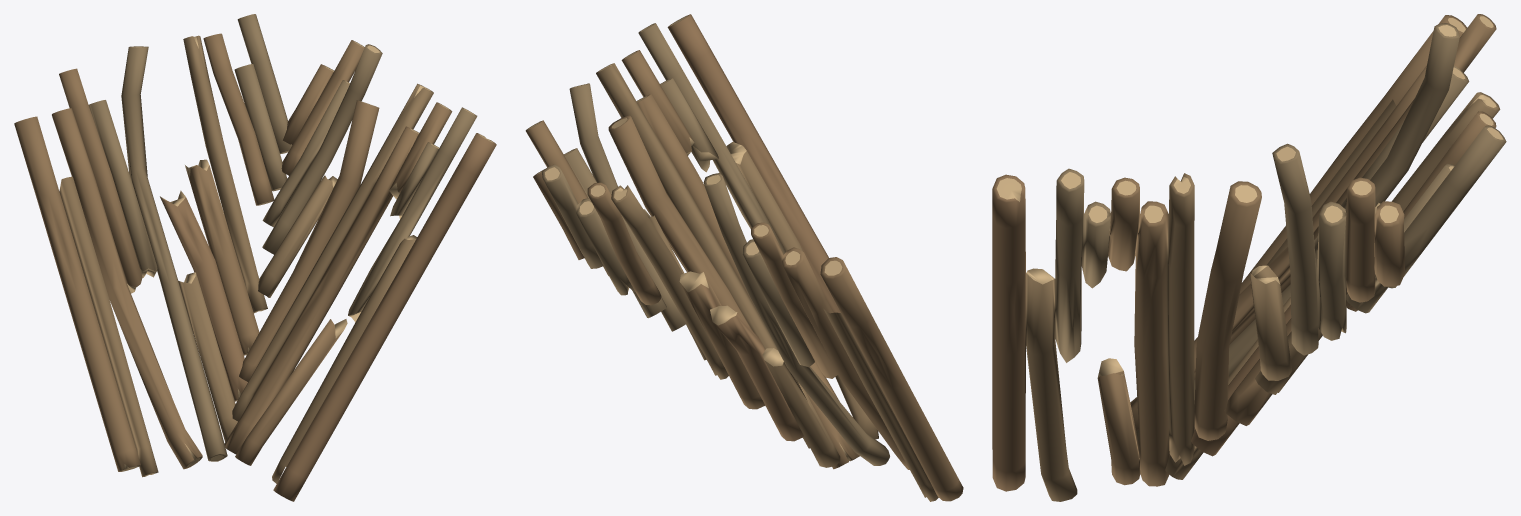
The model's file is rpgpp_av_roof_01_6x5x3_corner_01.gltf.
3 renders of one model, left to right at view 1: azimuth 30°, elevation 25°; view 2: azimuth 150°, elevation 25°; view 3: azimuth 270°, elevation 25°, orthographic. The views are drawn at different scales.
Parts seen in each view (by area): view 1: rpgpp_av_roof_01_6x5x3_corner_01; view 2: rpgpp_av_roof_01_6x5x3_corner_01; view 3: rpgpp_av_roof_01_6x5x3_corner_01.
Boxes of the visible parts, x1=… form: rpgpp_av_roof_01_6x5x3_corner_01: x1=14, y1=14, x2=496, y2=501; rpgpp_av_roof_01_6x5x3_corner_01: x1=525, y1=14, x2=963, y2=501; rpgpp_av_roof_01_6x5x3_corner_01: x1=992, y1=14, x2=1506, y2=501.
Size of the model in its own units: 0.0655 by 0.066 by 0.0655.
Materials: 1 (1 with a texture image).
